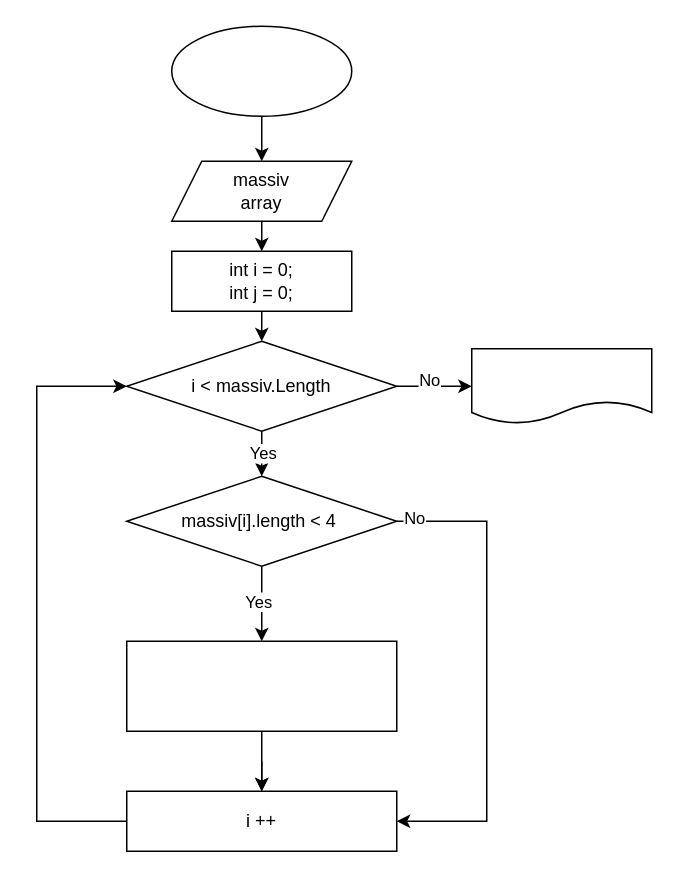
Some shapes in this 678 by 878 pixel diagram are drawn without their labels. The box of each missing label's shape, as (x1, y1, x2, y2) in pixels:
array[j] = massiv[i]; j++;: (125, 640, 397, 731)
print array: (470, 347, 652, 424)
Начало: (170, 25, 352, 116)
